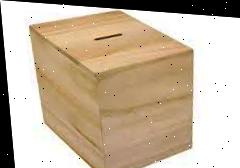cube: (28, 3, 201, 168)
